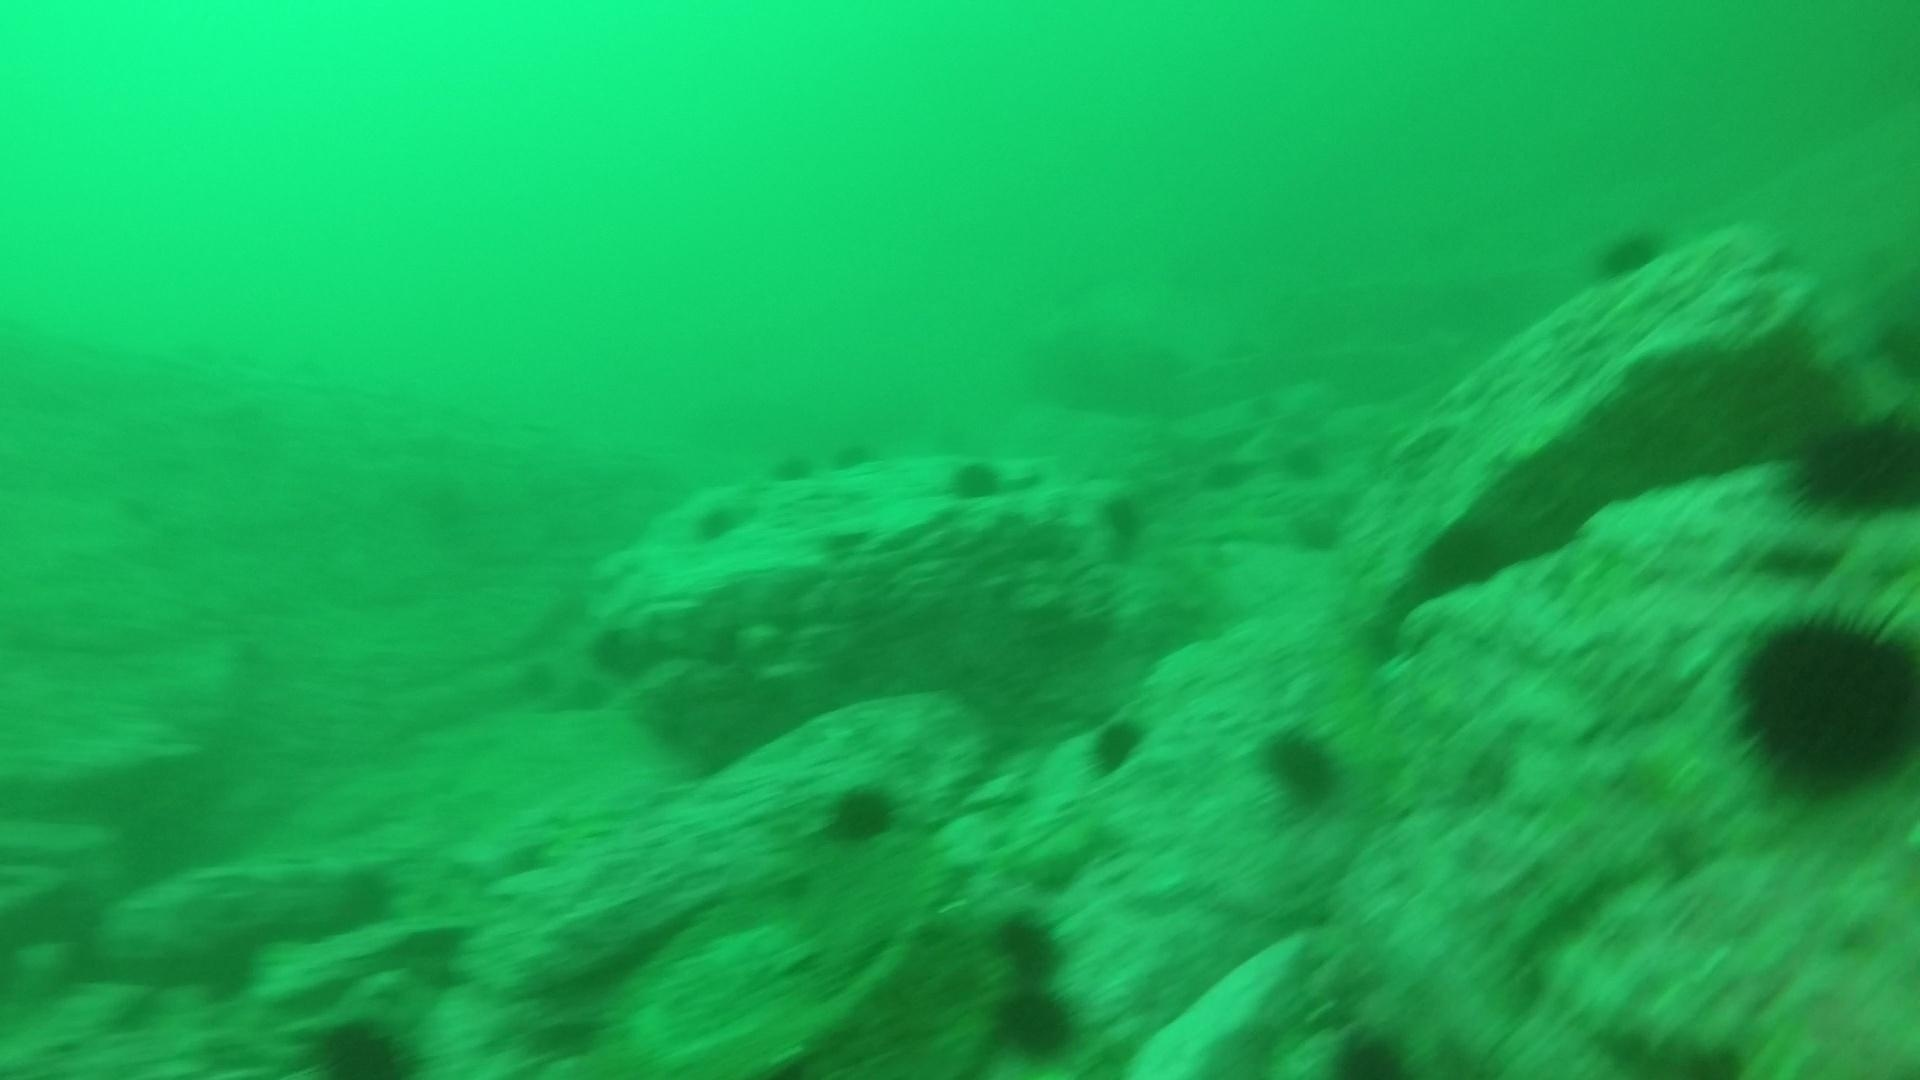echinus: (1724, 599, 1919, 799), (1783, 404, 1917, 522), (1251, 720, 1348, 814), (985, 978, 1085, 1064), (302, 1011, 423, 1077), (986, 905, 1071, 984), (818, 775, 905, 851), (1589, 219, 1669, 285), (1080, 708, 1153, 781), (762, 444, 829, 498), (1091, 495, 1158, 549), (1270, 436, 1337, 491), (824, 430, 891, 483), (683, 492, 750, 545), (939, 456, 1006, 509), (1191, 446, 1258, 498), (574, 625, 640, 678)
